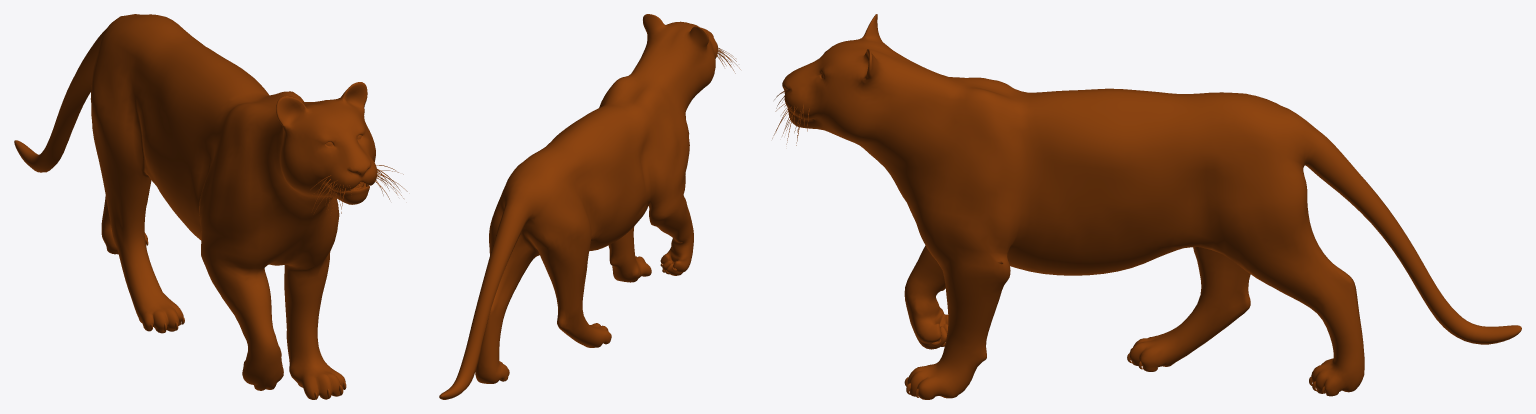
The model's file is tiger.glb.
The picture shows the model from 3 angles, left to right: view 1: azimuth 30°, elevation 25°; view 2: azimuth 150°, elevation 25°; view 3: azimuth 270°, elevation 25°; orthographic projection. The views are drawn at different scales.
Visible parts, largest first — view 1: tiger_0; view 2: tiger_0; view 3: tiger_0.
Part boxes in pixels (x1,y1,x2,y2): tiger_0: (14,14,407,399); tiger_0: (439,14,740,399); tiger_0: (772,14,1521,399).
Bounding box in the file's own units: 0.3631 × 0.9931 × 1.95.
Materials: 1 (1 with a texture image).
